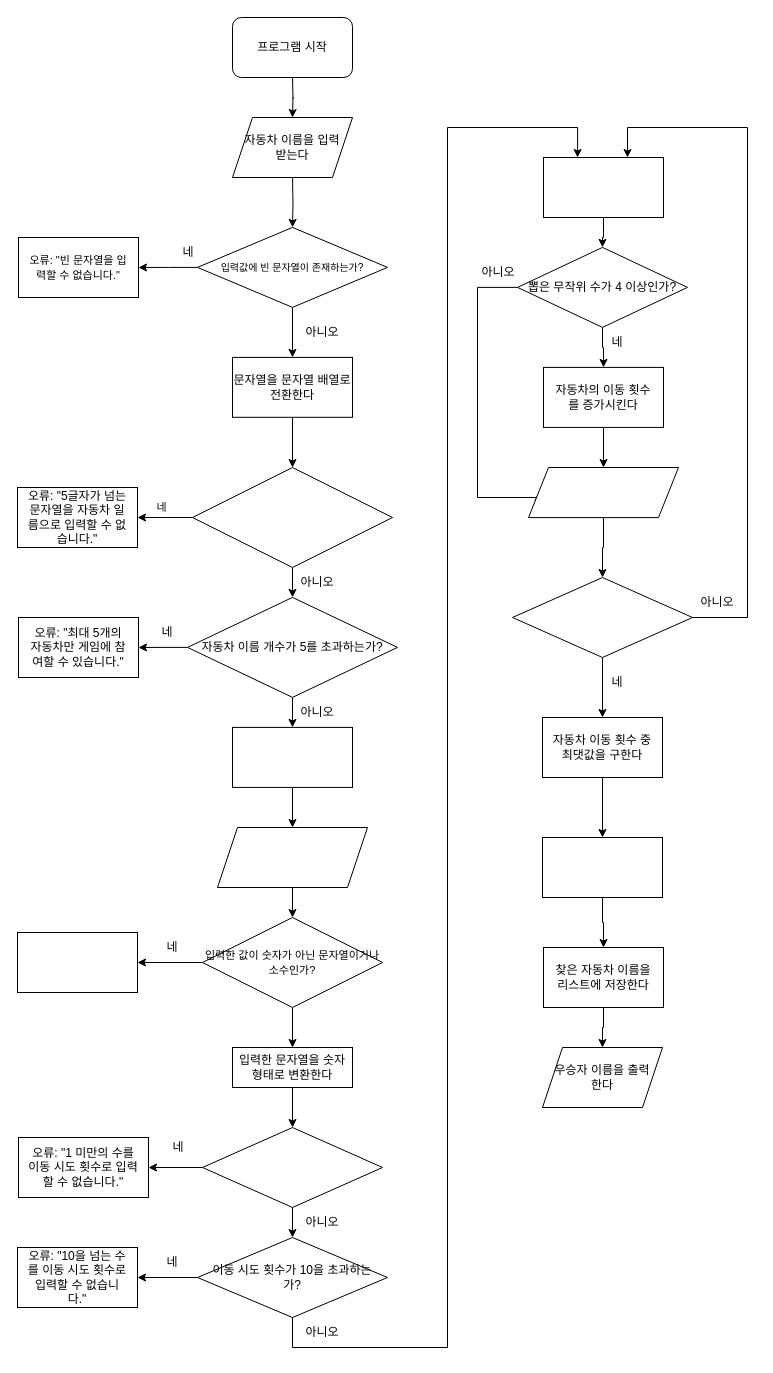
This 773x1373 diagram has some shape labels left out. Here are the shapes that lost their labels. From the top down, the box of each, then its label:
(542, 156, 664, 218): 무작위 수를 뽑는다
(528, 466, 678, 518): 자동차의 이름과 이동 횟수만큼의 하이픈을 출력한다
(192, 466, 392, 568): 자동차 이름 중 5글자 이상인 이름이 있는가?
(512, 576, 692, 658): 입력받은 이동 시도 횟수만큼 반복하였는가?
(232, 726, 352, 787): 자동차 이름 리스트를 저장한다
(216, 826, 368, 888): 이동 시도 횟수를 문자열 형태로 입력받는다
(542, 836, 662, 898): 이동횟수 최댓값과 같은 이동 횟수를 가진 자동차를 찾는다
(16, 932, 138, 992): 오류: "숫자가 아닌 문자열이나 소수를 입력할 수 없습니다. "
(202, 1126, 382, 1208): 숫자로 변환한 값이 1 미만인가?
